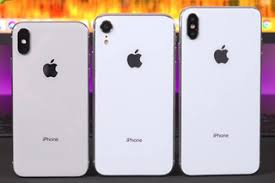iphone: (179, 6, 263, 177), (91, 12, 174, 177), (9, 17, 89, 175)
iphone10: (179, 4, 263, 175), (92, 12, 175, 177), (8, 18, 88, 176)
